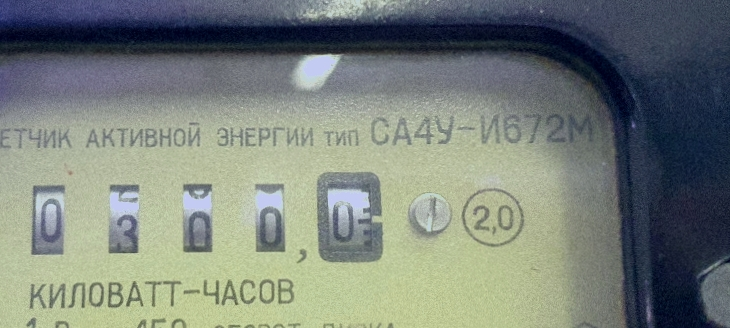0: (37, 193, 63, 245), (254, 204, 283, 250), (329, 197, 356, 246), (184, 206, 211, 254)
3: (111, 210, 140, 254)
screen: (10, 165, 391, 274)
